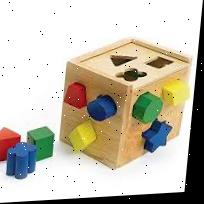cube: (60, 37, 197, 175)
